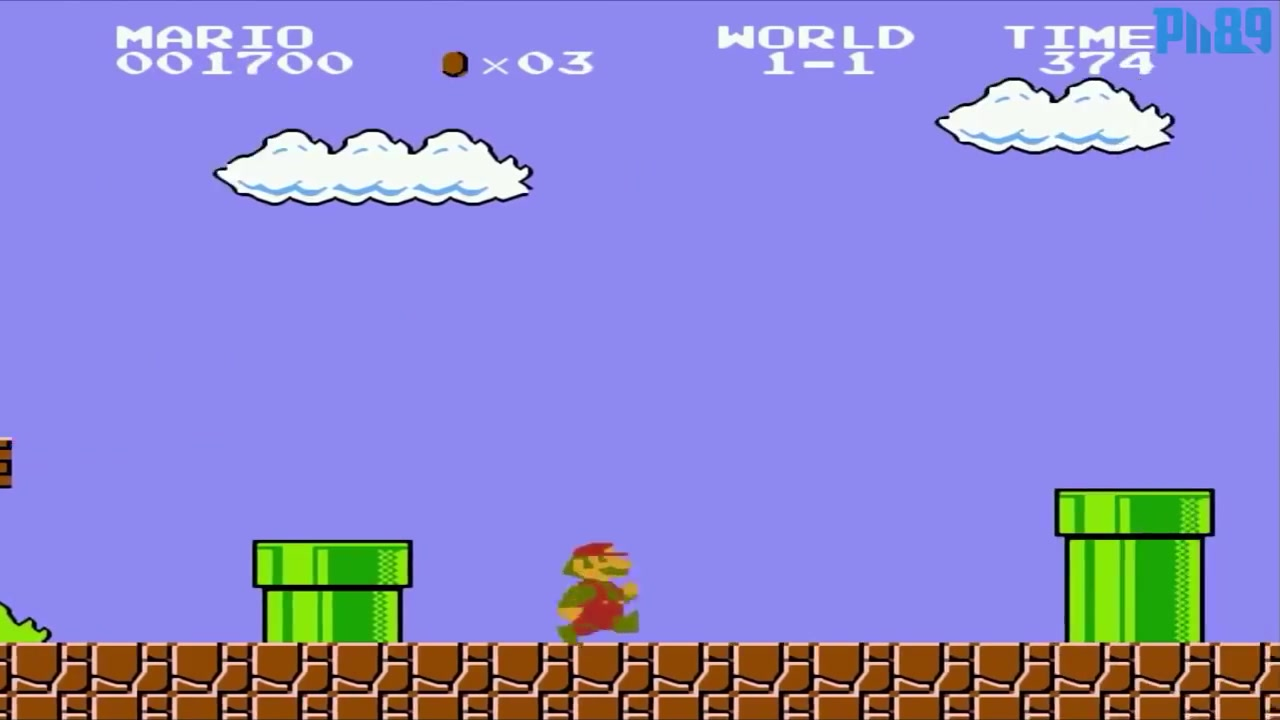mario: (545, 538, 645, 645)
